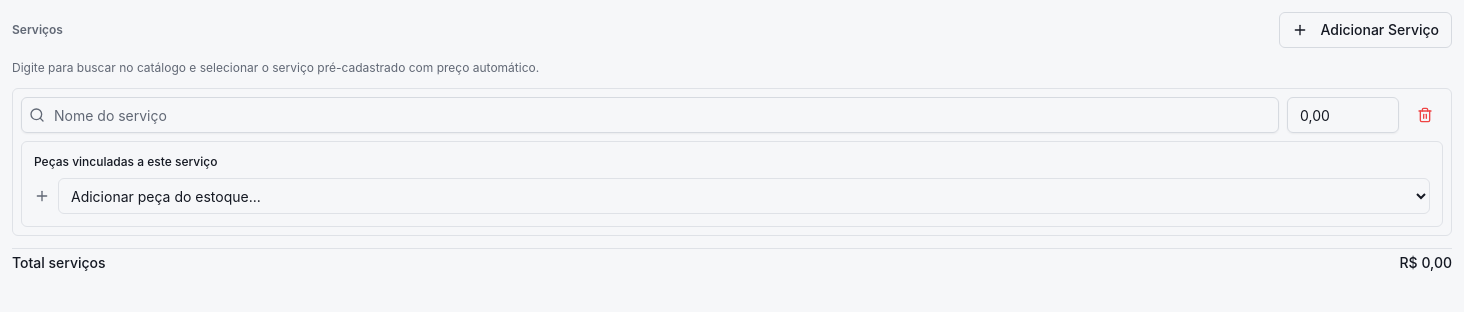
AjusteOrcamentoServicos › mostra sugestões do catálogo ao digitar
Type "Limpeza" into the field with placeholder "Nome do serviço".
click(650, 115); type("Limpeza")  # box [21,97,1279,133]
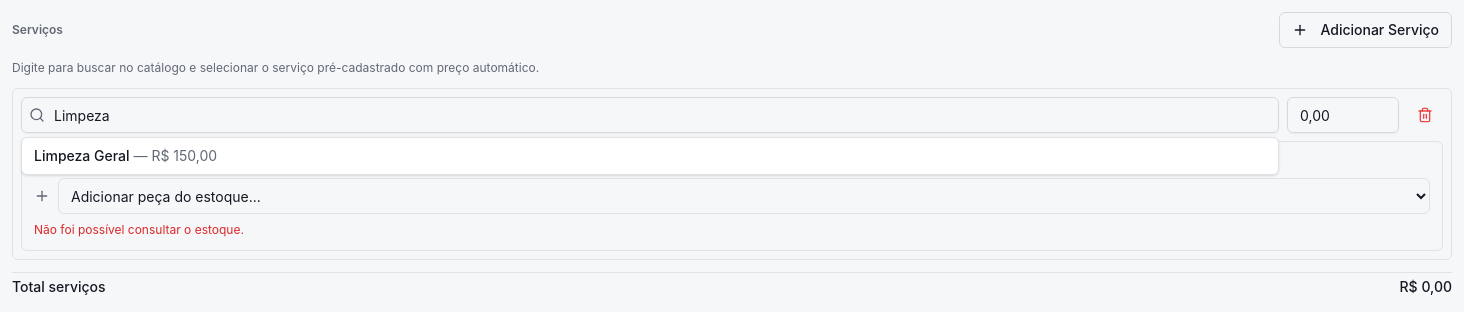
Now the text "Limpeza Geral" is shown, box [34,147,130,164]
